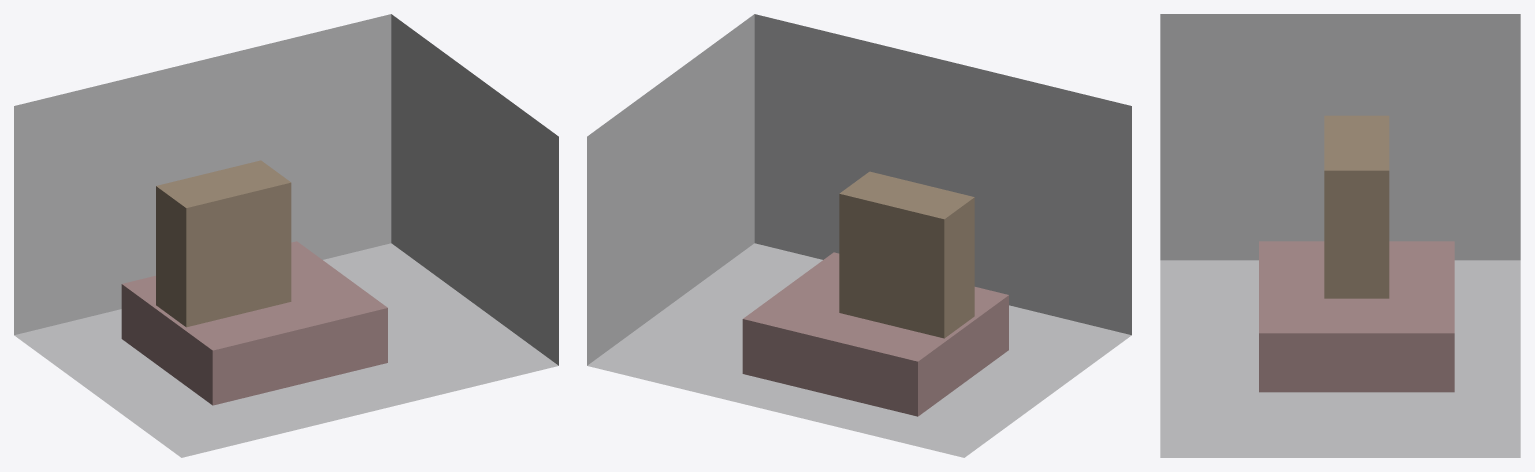
Rendered from optimised_layout.glb.
The picture shows the model from 3 angles, left to right: view 1: azimuth 30°, elevation 25°; view 2: azimuth 150°, elevation 25°; view 3: azimuth 270°, elevation 25°; orthographic projection. The views are drawn at different scales.
Parts seen in each view (by area): view 1: room, bed, wardrobe; view 2: room, bed, wardrobe; view 3: room, bed, wardrobe.
Boxes of the visible parts, <box> form: room: <box>14,14,558,457</box>; bed: <box>121,241,387,405</box>; wardrobe: <box>156,160,291,327</box>; room: <box>587,14,1131,457</box>; bed: <box>742,252,1008,416</box>; wardrobe: <box>839,171,974,338</box>; room: <box>1160,14,1520,457</box>; bed: <box>1259,241,1454,392</box>; wardrobe: <box>1324,115,1389,298</box>.
Size of the model in its own units: 4.31 by 2.5 by 3.31.
